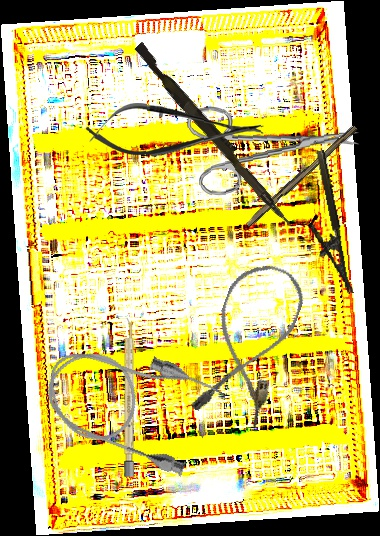Cannula: (32, 324, 229, 482), (186, 254, 312, 432)
Iris Scissors: (186, 96, 363, 198)
Micro Scissor: (84, 102, 266, 159)
Needle Holder: (296, 149, 354, 299)
Pusher: (129, 41, 299, 228)
Scalpel Handle: (243, 121, 359, 230), (124, 318, 134, 477)
